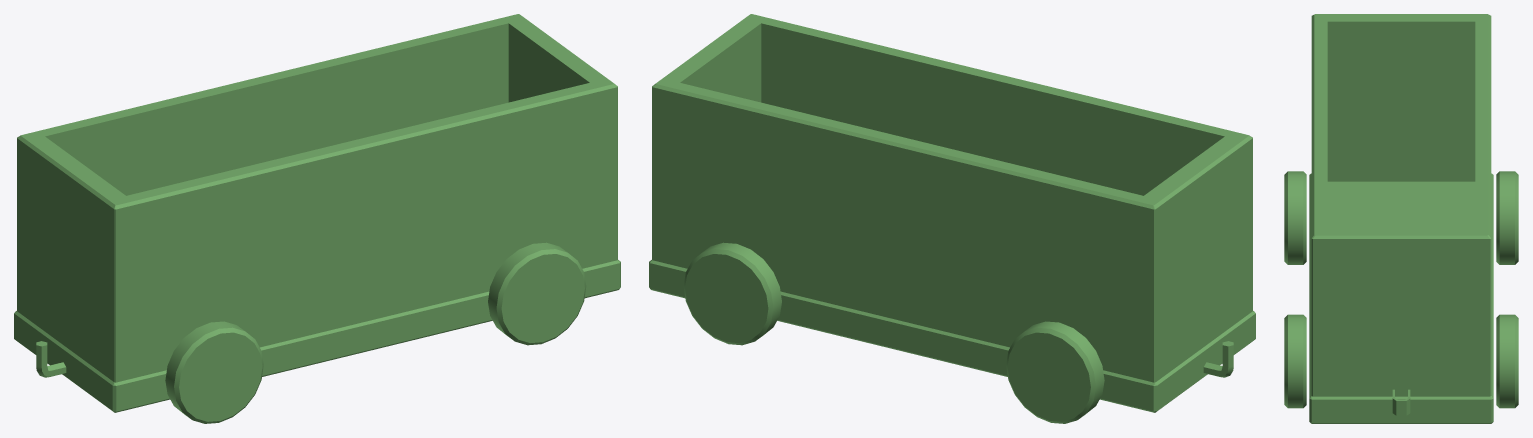
Rendered from Wagon.fbx.
The picture shows the model from 3 angles, left to right: view 1: azimuth 30°, elevation 25°; view 2: azimuth 150°, elevation 25°; view 3: azimuth 270°, elevation 25°; orthographic projection. The views are drawn at different scales.
Parts seen in each view (by area): view 1: Wagon; view 2: Wagon; view 3: Wagon.
Part boxes in pixels (x1,y1,x2,y2): Wagon: (14, 14, 620, 423); Wagon: (649, 14, 1255, 423); Wagon: (1284, 14, 1518, 423).
Size of the model in its own units: 0.0691 by 0.027 by 0.0275.
